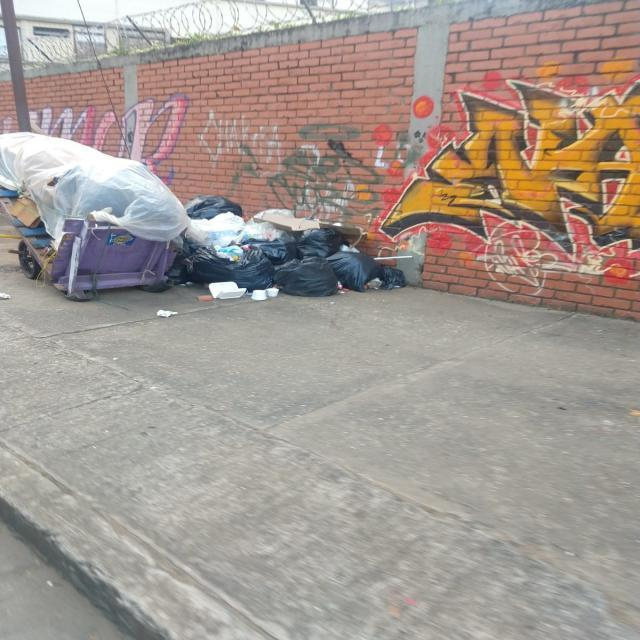Garbage_Bag: (183, 244, 274, 291), (326, 250, 388, 294), (274, 257, 341, 297), (296, 225, 344, 258)
